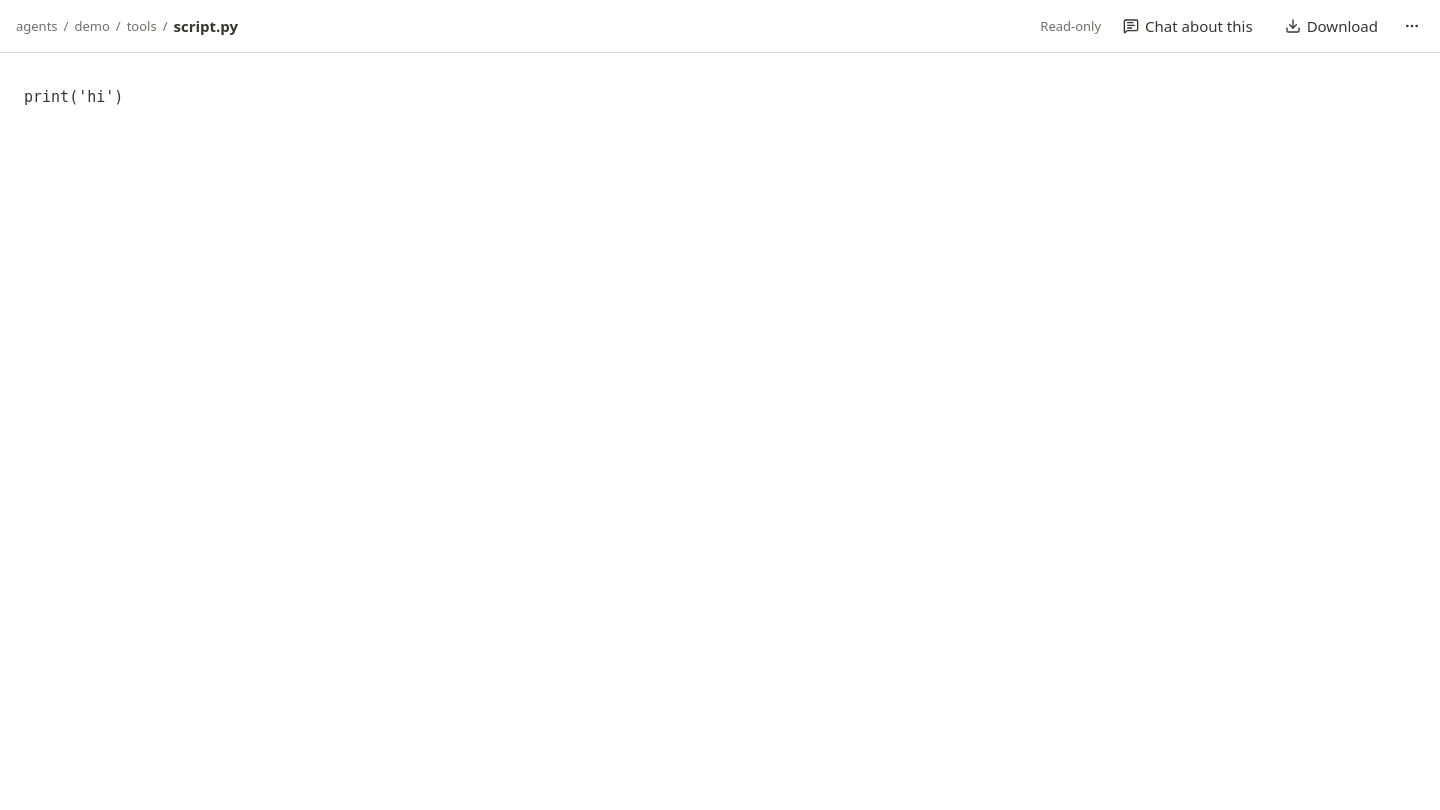
Scenario: a failing delete surfaces an error banner instead of silently closing
Expected: the text "script.py" is shown, [174,16,238,36]
Step 1. Click the button named "file actions" → [1412, 26], box [1400,14,1424,38]
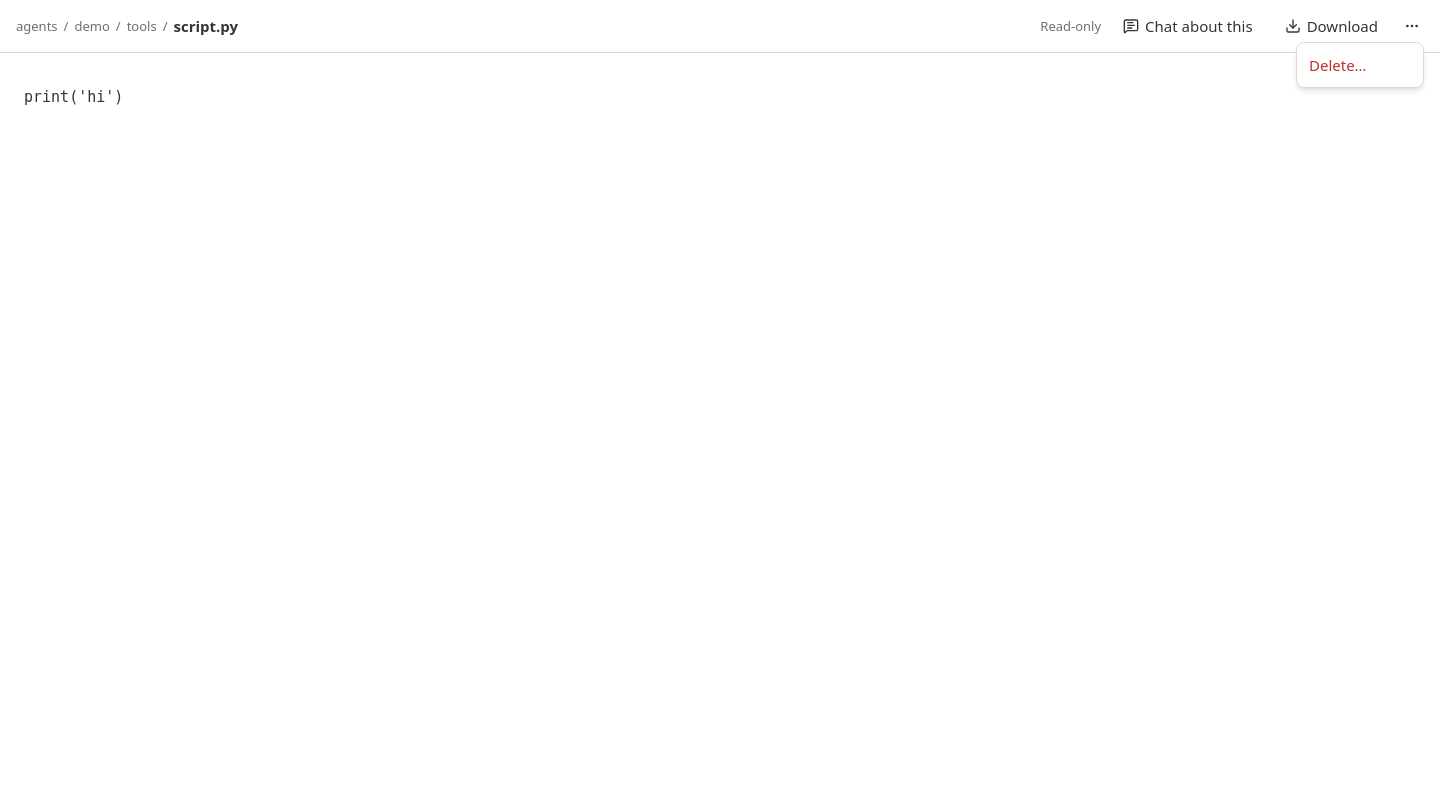
Step 2. Click the menu item "Delete…" → [1338, 65], box [1309,55,1366,75]
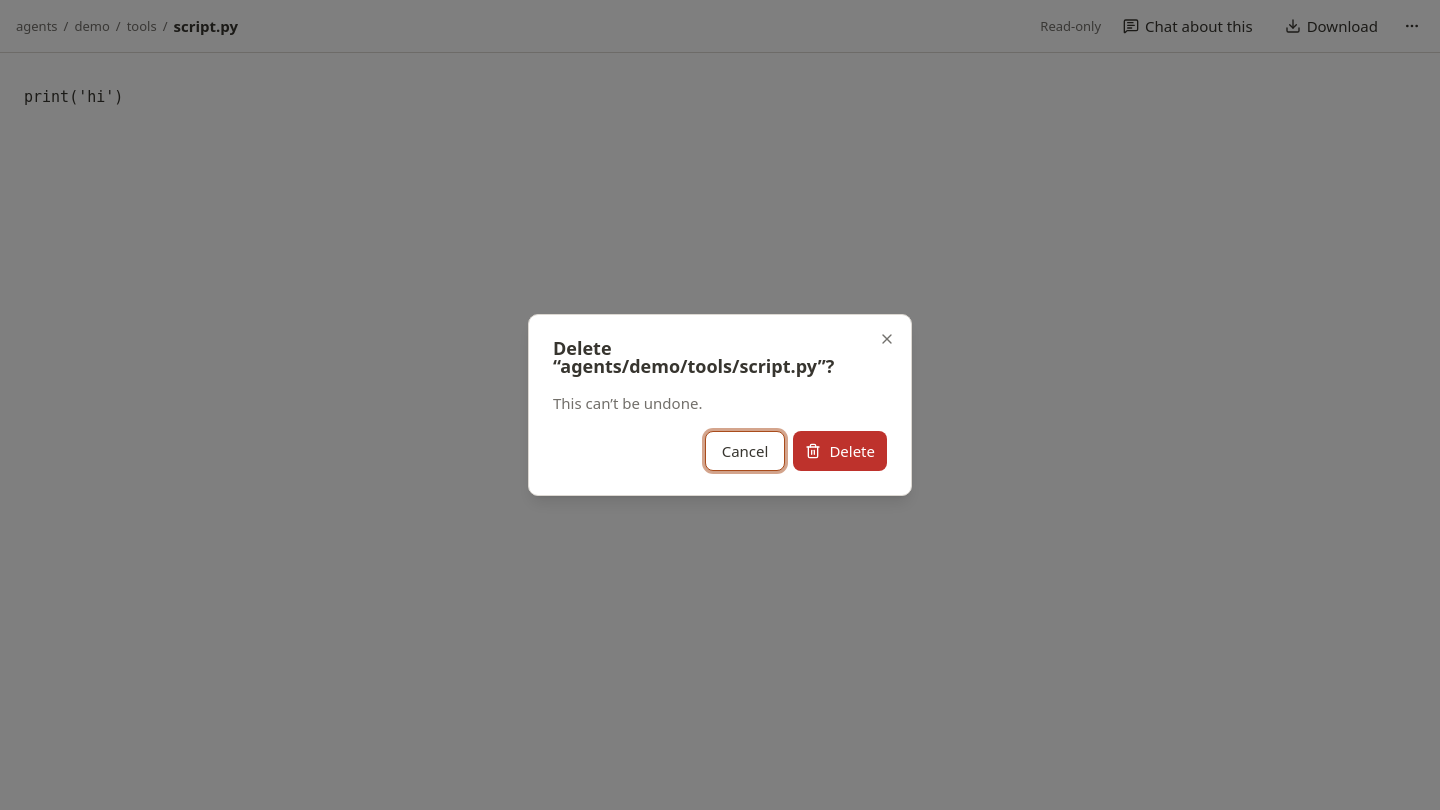
Step 3. Click the button "Delete" → [840, 451], box [793,431,887,471]
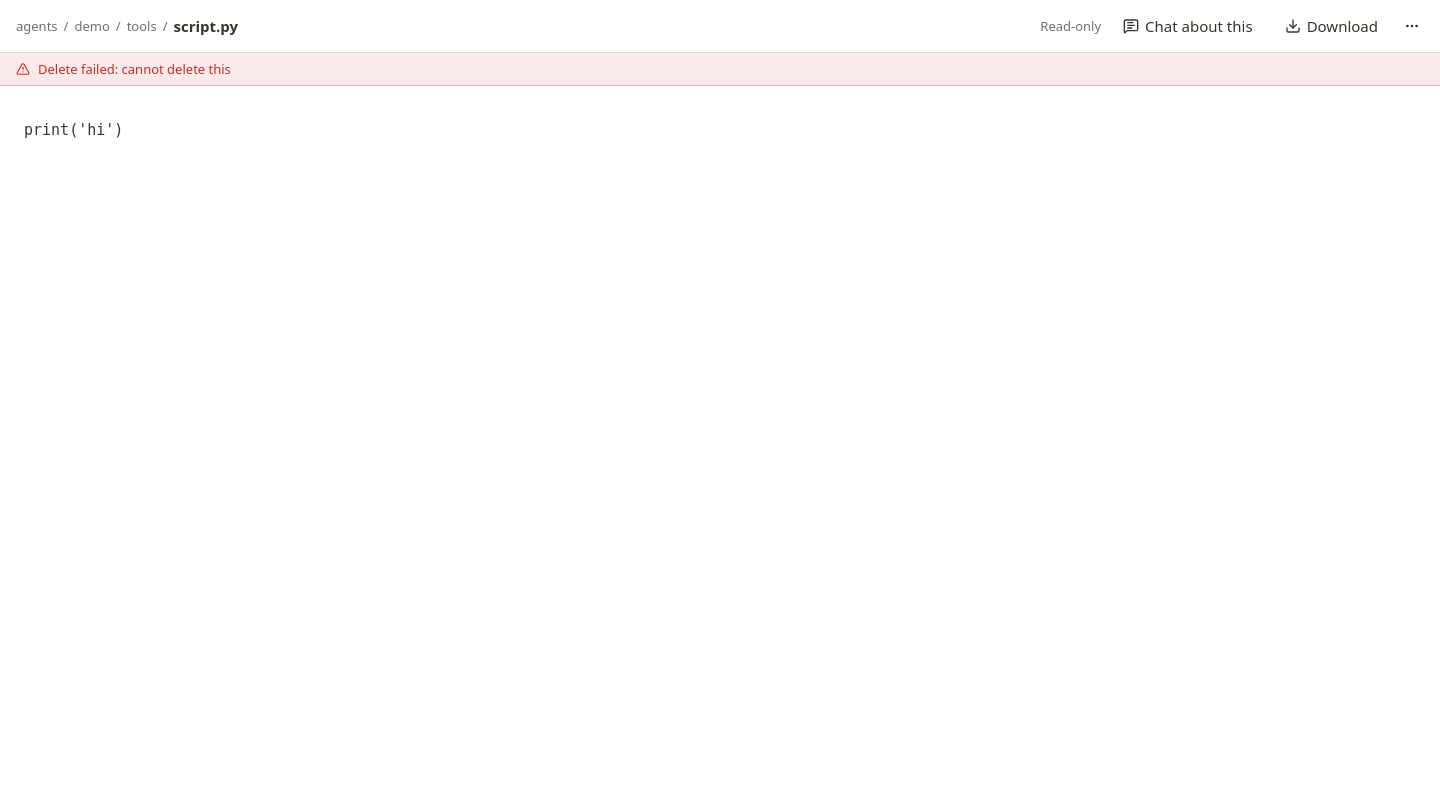
Expected: the text "script.py" is shown, [174,16,238,36]
Expected: the text "Delete failed: cannot delete this" is shown, [0,53,1439,86]
